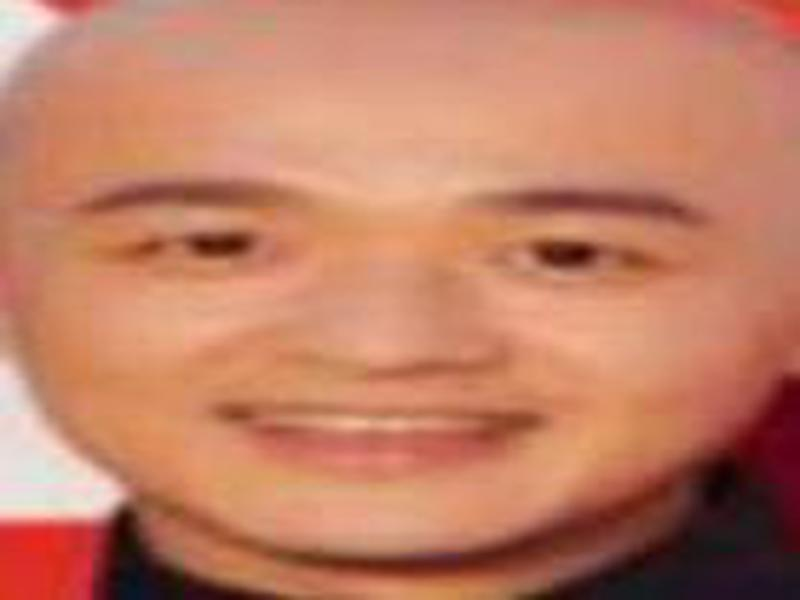without_mask: (16, 4, 782, 567)
